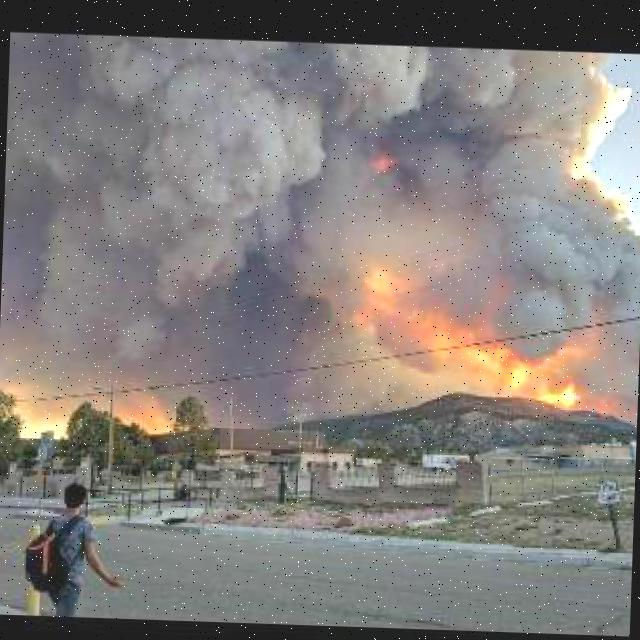fire: (430, 337, 606, 422), (348, 263, 456, 337), (111, 390, 193, 435), (11, 401, 74, 441)
